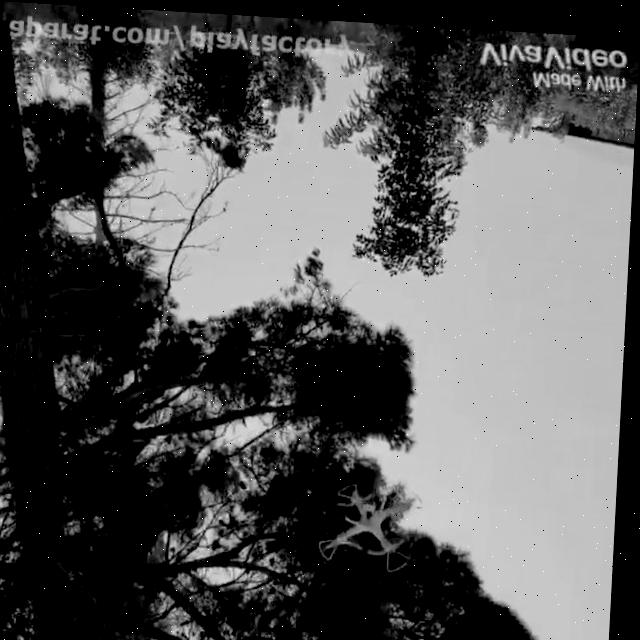drone: (323, 480, 428, 567)
